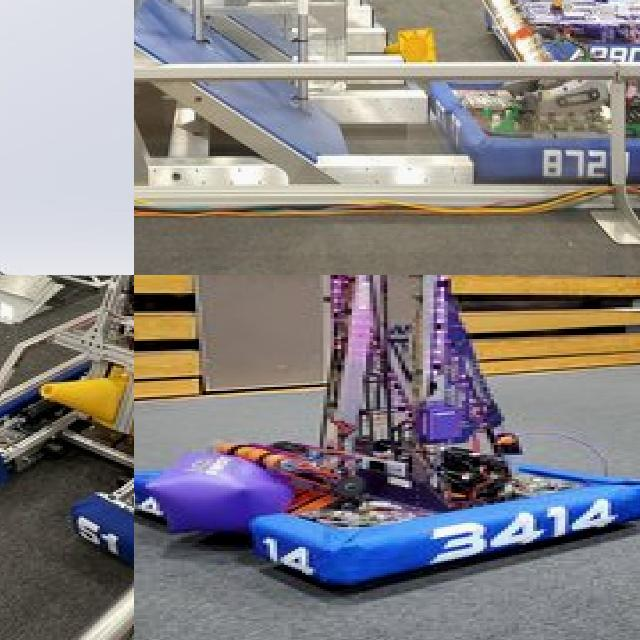FRC-Robots: (134, 275, 638, 621), (164, 0, 640, 207), (0, 275, 134, 563), (0, 0, 72, 275), (468, 0, 640, 82)
